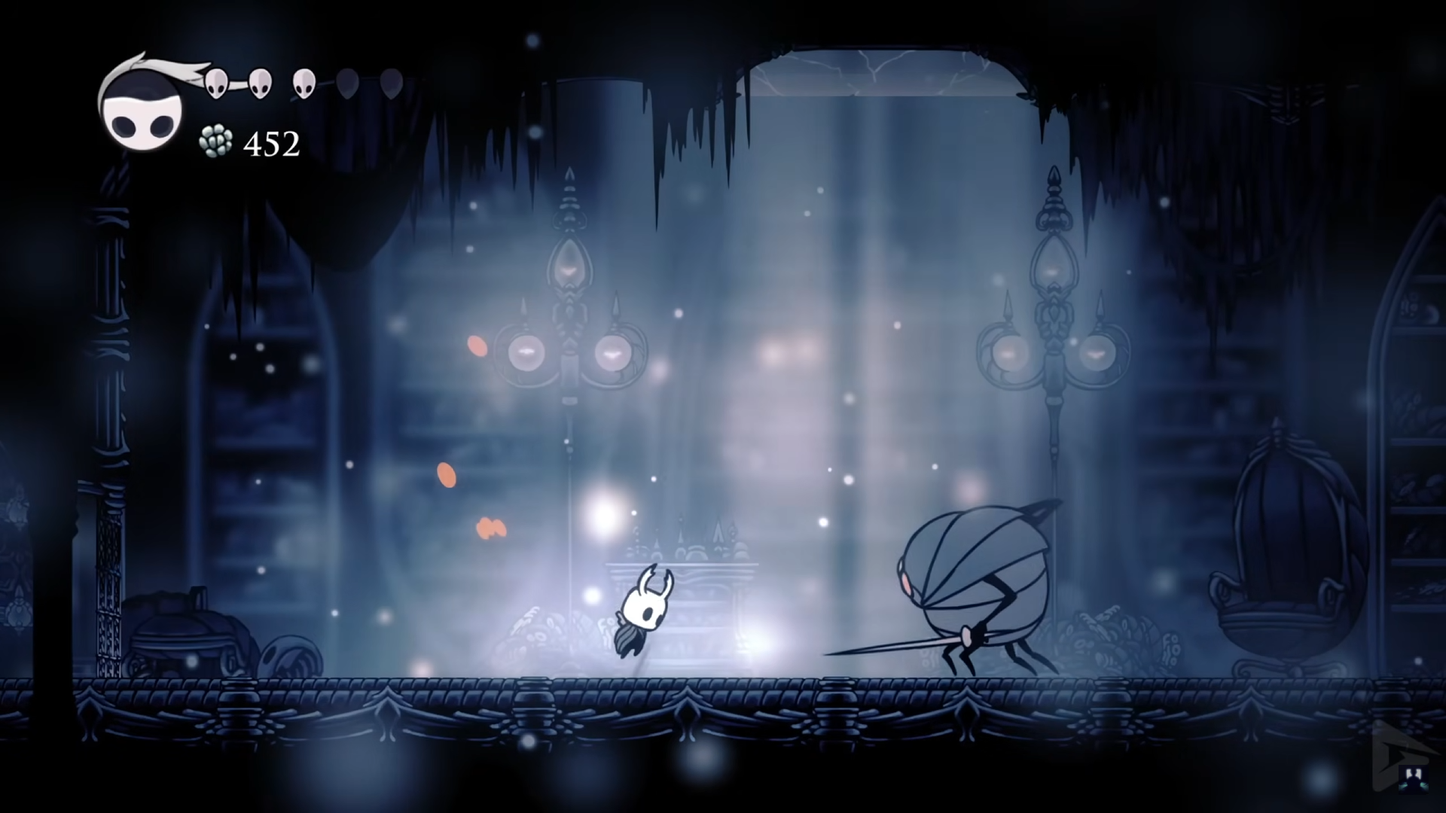HK: (607, 562, 678, 666)
